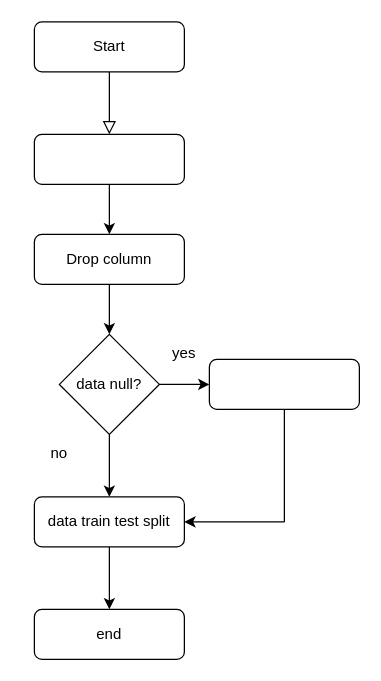
This 381x681 diagram has some shape labels left out. The box of each missing label's shape, as (x1, y1, x2, y2) in pixels:
Columns name Change: (33, 133, 184, 184)
Data manipulattion: (208, 358, 359, 409)
